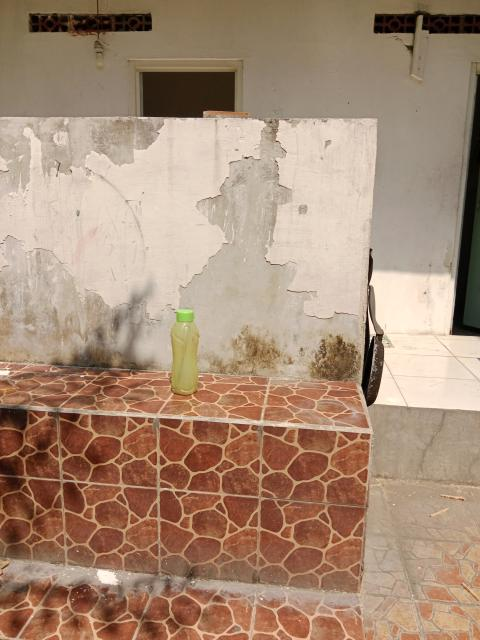botol: (168, 300, 204, 403)
